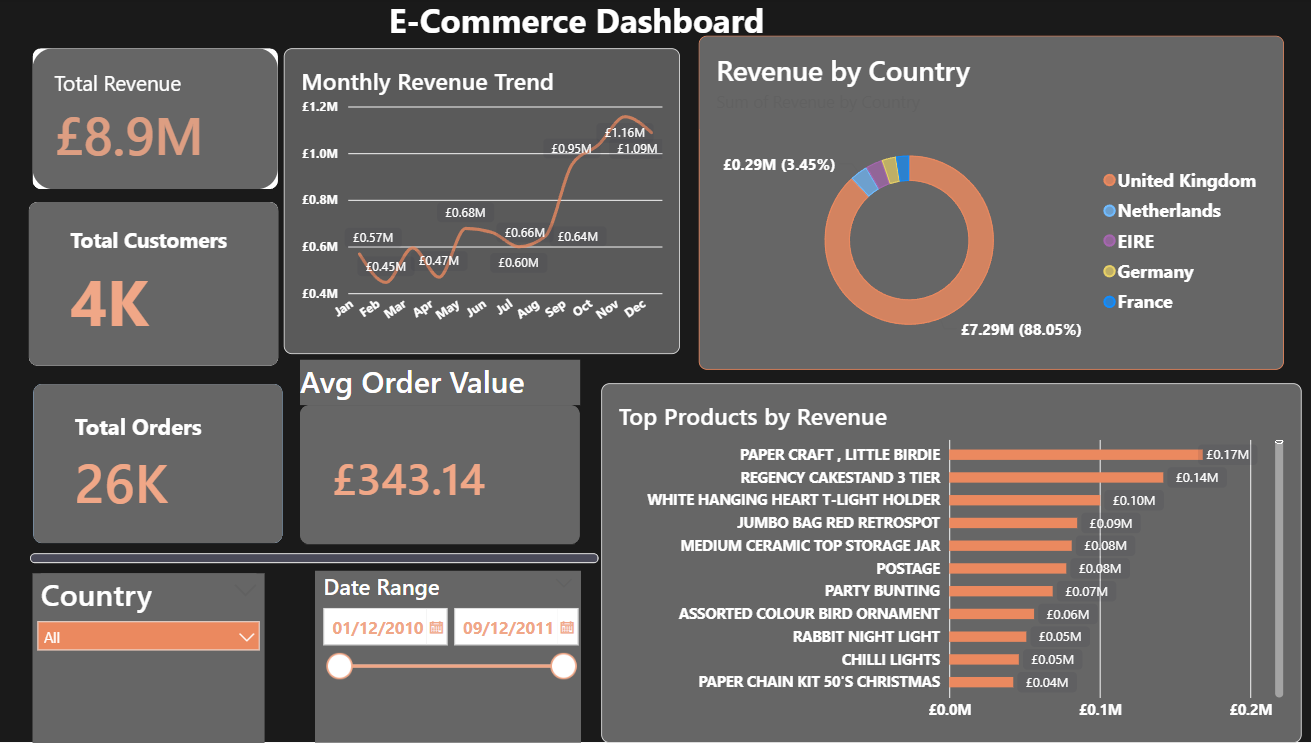

This screenshot's page, from the dashboard's own definition file:
{"tool":"powerbi","page":{"name":"Page 1","canvas":[1280,720],"ordinal":0},"visuals":[{"type":"shape","box":[9.7,0,1270.4,719],"z":0},{"type":"cardVisual","title":"Total Revenue","fields":{"Data":["Online Retail.Total Revenue"]},"box":[45.8,49.5,237.7,136.3],"z":1000},{"type":"cardVisual","title":"Total orders","fields":{"Data":["Online Retail.Total Orders"]},"box":[45.8,372.8,242.5,155.6],"z":2000},{"type":"cardVisual","title":"Total customer","fields":{"Data":["Online Retail.Total Customers"]},"box":[42.2,197.9,241.3,158],"z":3000},{"type":"lineChart","title":"Monthly Revenue Trend","fields":{"Category":["Online Retail.Month Name"],"Y":["Sum(Online Retail.Revenue)"]},"box":[288.3,49.5,382.4,295.6],"z":4000},{"type":"barChart","title":"Top Products by Revenue","fields":{"Category":["Online Retail.Description"],"Y":["Sum(Online Retail.Revenue)"]},"box":[594.8,372.8,675.6,347.5],"z":5000},{"type":"textbox","box":[389.8,0,426.6,75.3],"z":6000},{"type":"slicer","fields":{"Values":["Online Retail.InvoiceDate"]},"box":[318.5,553.8,255.8,165.3],"z":7000},{"type":"slicer","fields":{"Values":["Online Retail.Country"]},"box":[45.8,556.2,224.4,164.1],"z":8000},{"type":"donutChart","title":"Revenue by Country","fields":{"Category":["Online Retail.Country"],"Y":["Sum(Online Retail.Revenue)"]},"box":[688.9,37.4,564.6,322.1],"z":9000},{"type":"cardVisual","title":"Avg Order Value","fields":{"Data":["Online Retail.Avg Order Value"]},"box":[304,349.9,270.2,178.6],"z":10000},{"type":"shape","box":[43.4,536.9,548.9,9.7],"z":10001}]}

Visuals, with their boxes in screenshot pixels (x1, y1, x2, y2), scaled from the page's 1280x720 canvas onto the 1311x743 screenshot:
shape: select_region(10, 0, 1310, 742)
"Total Revenue" cardVisual: select_region(47, 51, 290, 192)
"Total orders" cardVisual: select_region(47, 385, 295, 545)
"Total customer" cardVisual: select_region(43, 204, 290, 367)
"Monthly Revenue Trend" lineChart: select_region(295, 51, 687, 356)
"Top Products by Revenue" barChart: select_region(609, 385, 1301, 742)
textbox: select_region(399, 0, 836, 78)
slicer - Online Retail.InvoiceDate: select_region(326, 571, 588, 742)
slicer - Online Retail.Country: select_region(47, 574, 277, 742)
"Revenue by Country" donutChart: select_region(706, 39, 1284, 371)
"Avg Order Value" cardVisual: select_region(311, 361, 588, 545)
shape: select_region(44, 554, 607, 564)
